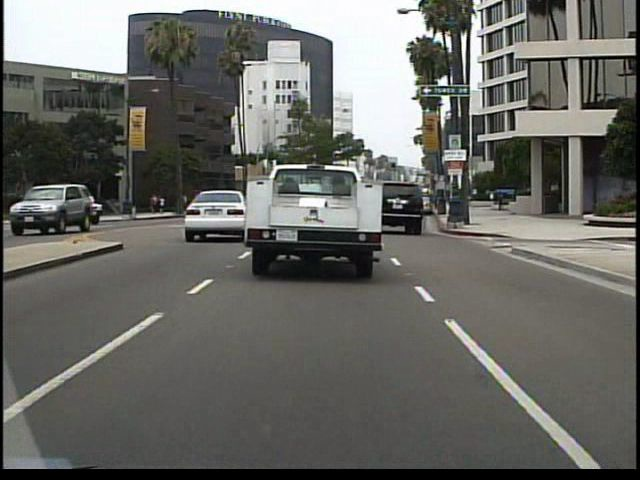person: (18, 192, 38, 229), (83, 189, 99, 225), (71, 192, 86, 224), (119, 186, 135, 216)
